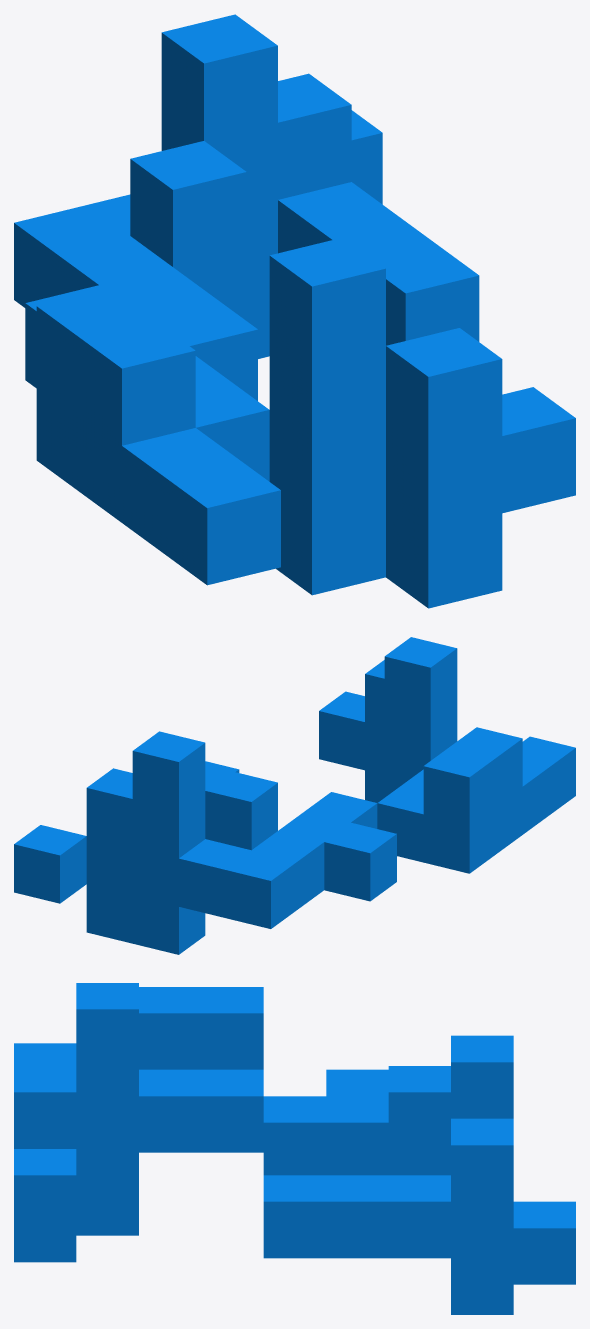
File: VoxelEffects_SpaceTrash_02.FBX
3 renders of one model, top to bottom at view 1: azimuth 30°, elevation 25°; view 2: azimuth 150°, elevation 25°; view 3: azimuth 270°, elevation 25°, orthographic. The views are drawn at different scales.
Parts seen in each view (by area): view 1: VoxelEffects_SpaceTrash_02; view 2: VoxelEffects_SpaceTrash_02; view 3: VoxelEffects_SpaceTrash_02.
Part boxes in pixels (x1,y1,x2,y2): VoxelEffects_SpaceTrash_02: (14,14,575,608); VoxelEffects_SpaceTrash_02: (14,637,575,954); VoxelEffects_SpaceTrash_02: (14,983,575,1314).
Bounding box in the file's own units: 70 × 40 × 90.
